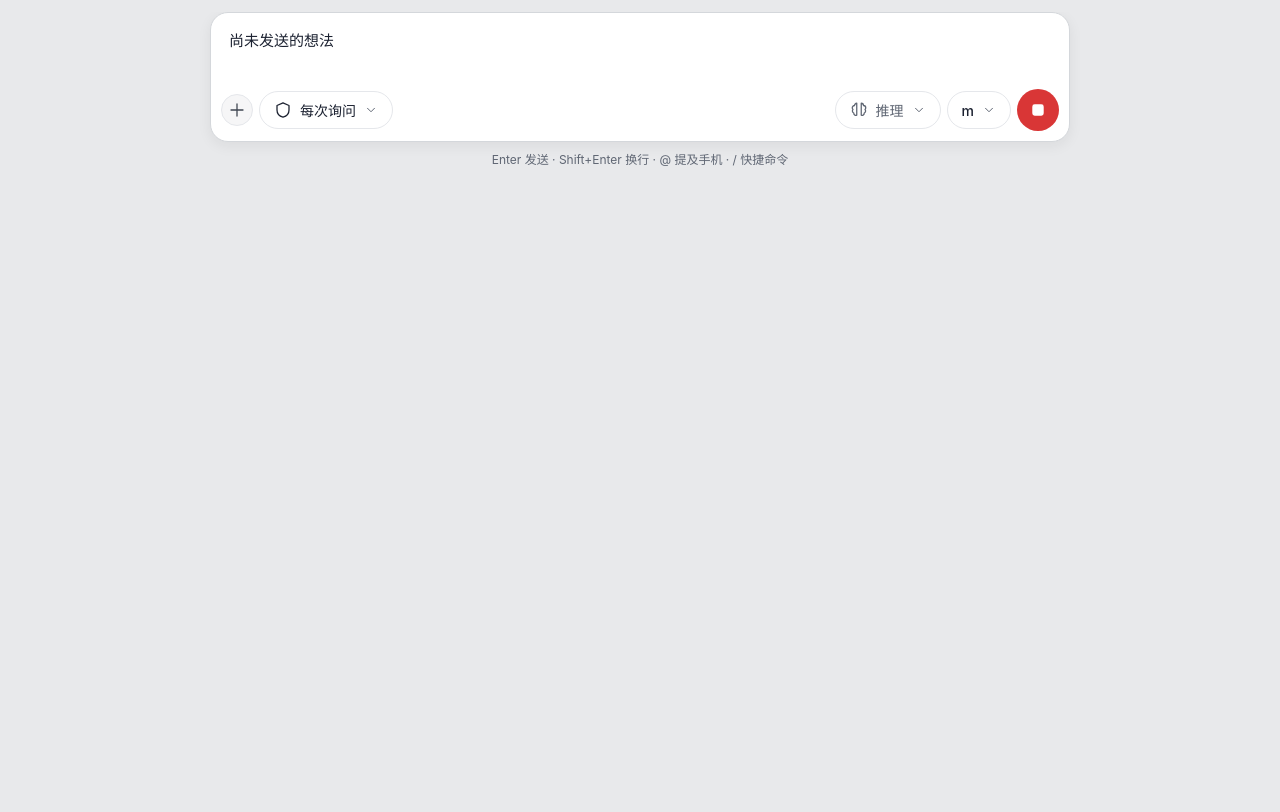
D28 AC-2: clicking again restores the minimized window with its draft and no second creation
Click the button named "添加" at (237, 110), box x1=221 y1=94 x2=253 y2=126
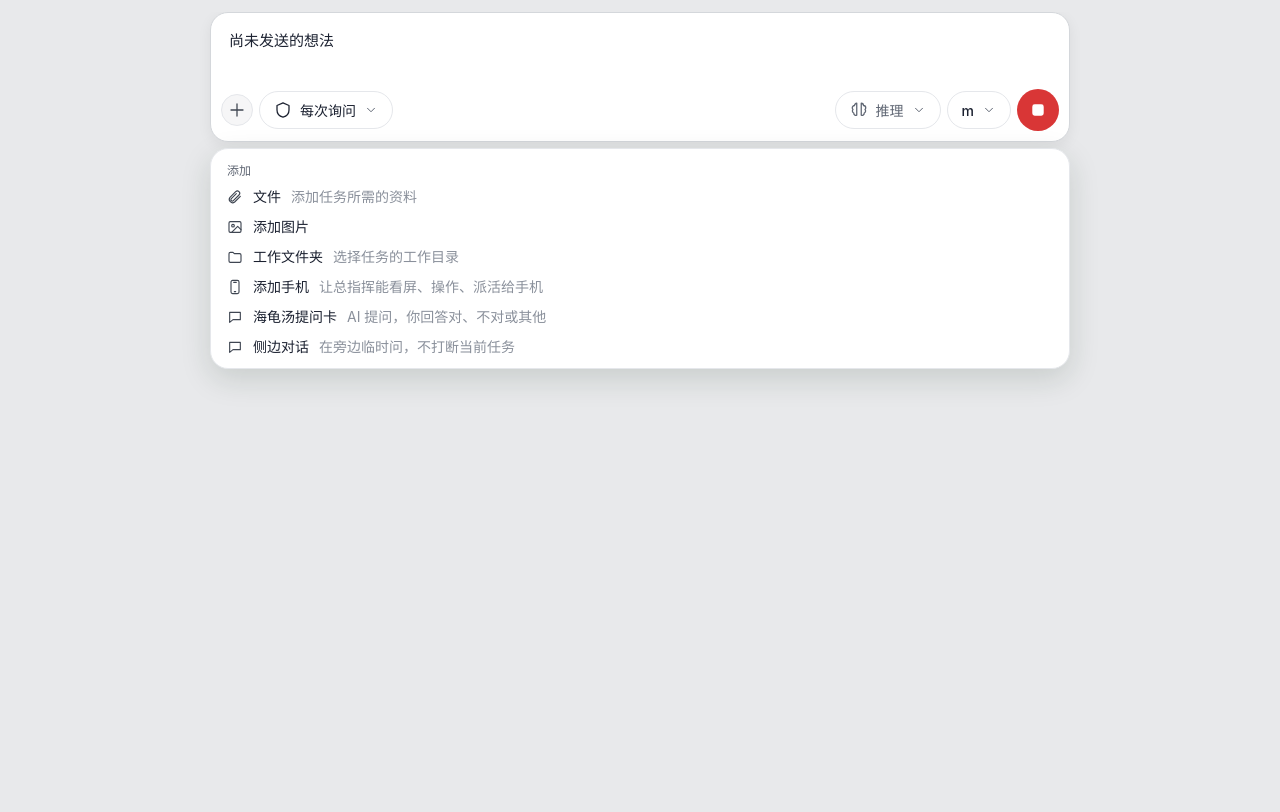
Click the menu item with class "menu__item" showing "侧边对话 在旁边临时问，不打断当前任务" at (281, 347), box x1=217 y1=332 x2=1063 y2=362
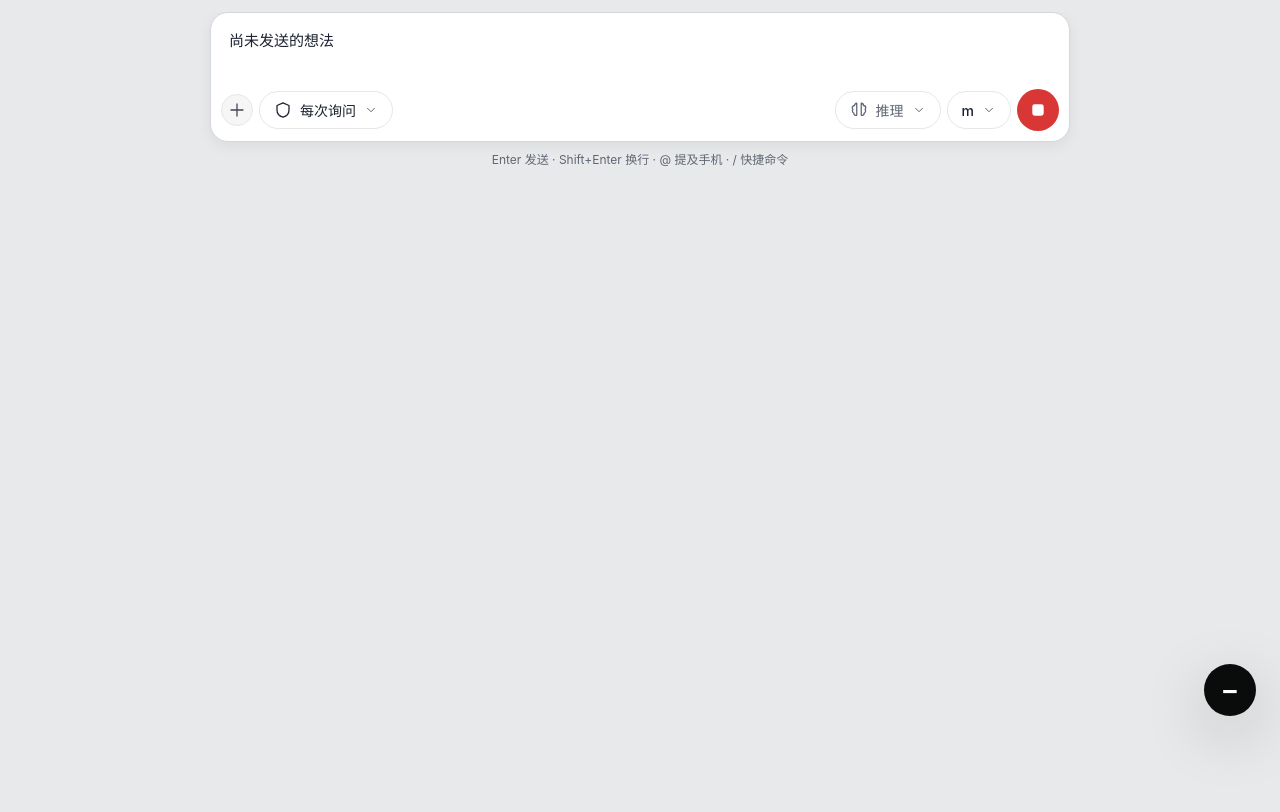
Check: the button with class "side-ball" is shown, box x1=1204 y1=664 x2=1256 y2=716
Click the button named "添加" at (237, 110), box x1=221 y1=94 x2=253 y2=126
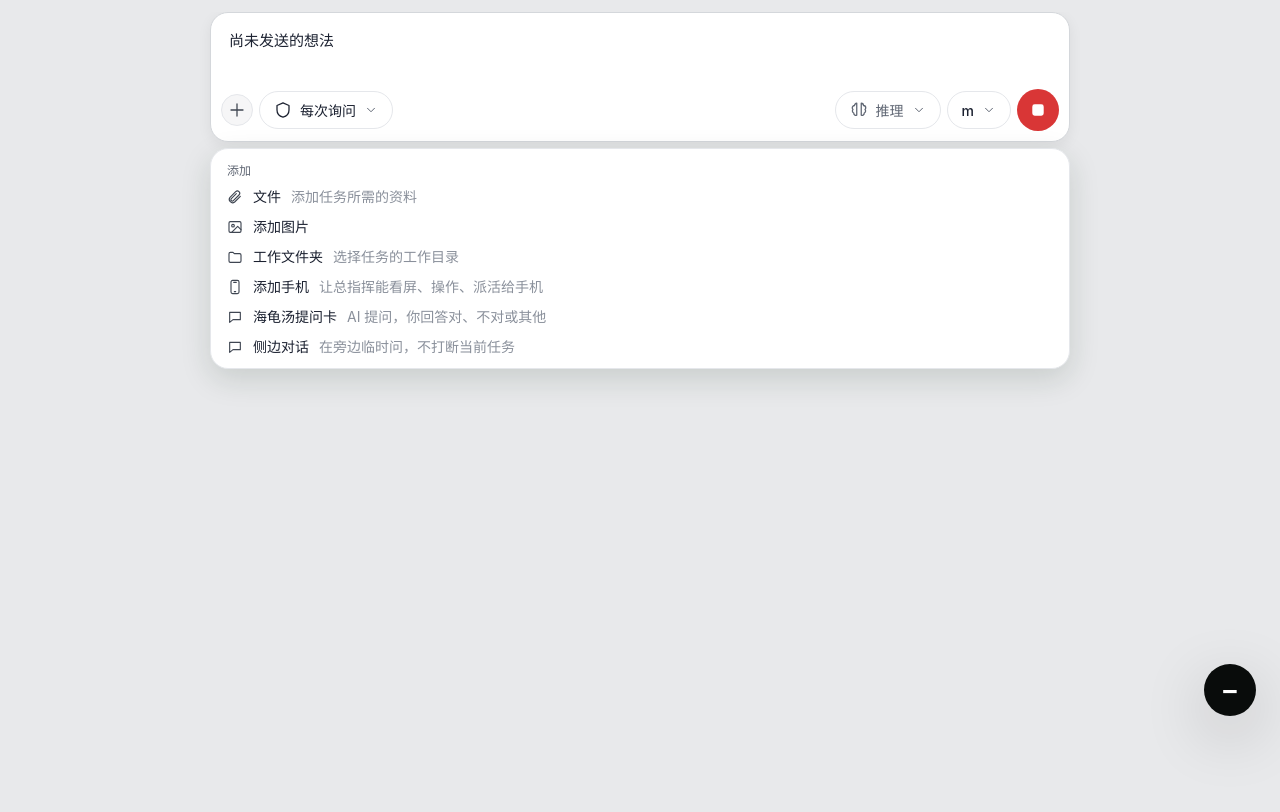
Click the menu item with class "menu__item" showing "侧边对话 在旁边临时问，不打断当前任务" at (281, 347), box x1=217 y1=332 x2=1063 y2=362
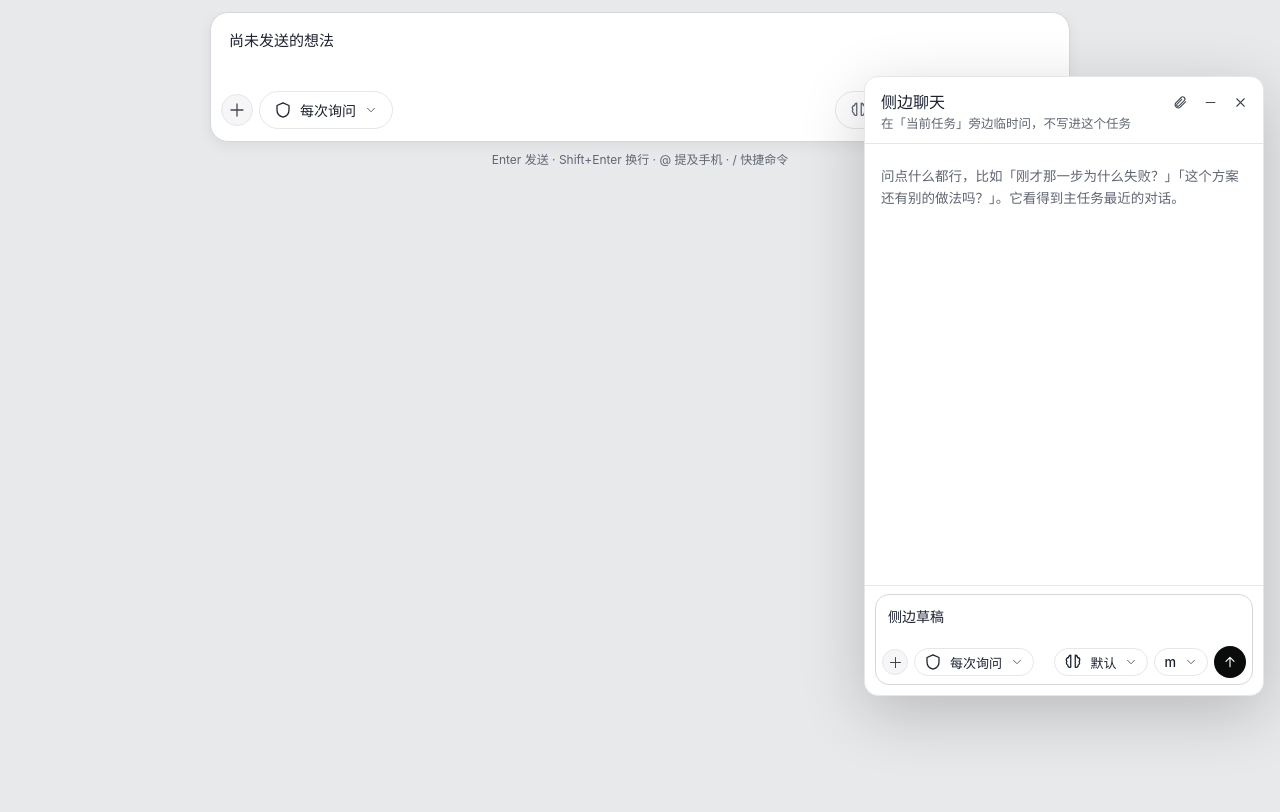
Check: the element with class "side-chat" is shown, box x1=864 y1=76 x2=1264 y2=696
